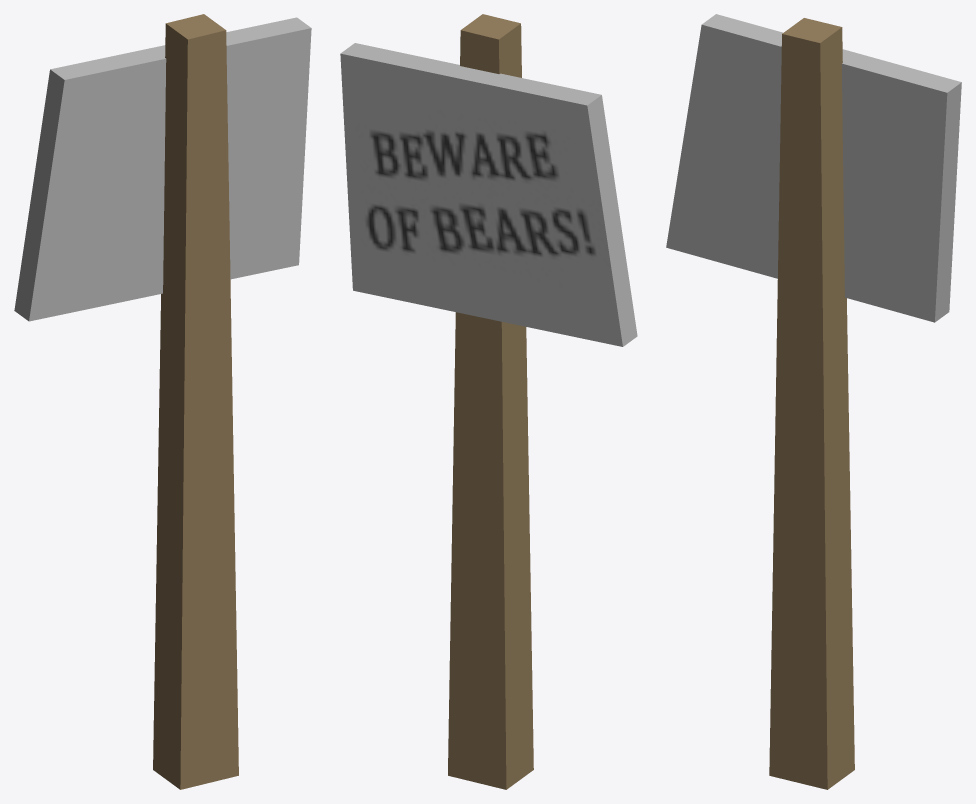
The model's file is model_polytope_sign01.fbx.
The picture shows the model from 3 angles, left to right: view 1: azimuth 30°, elevation 25°; view 2: azimuth 150°, elevation 25°; view 3: azimuth 330°, elevation 25°; orthographic projection.
Parts seen in each view (by area): view 1: model_polytope_sign01; view 2: model_polytope_sign01; view 3: model_polytope_sign01.
Part boxes in pixels (<box>): model_polytope_sign01: <box>14,14,311,789</box>; model_polytope_sign01: <box>340,14,637,789</box>; model_polytope_sign01: <box>666,14,961,789</box>.
Size of the model in its own units: 66.26 by 167 by 15.62.
